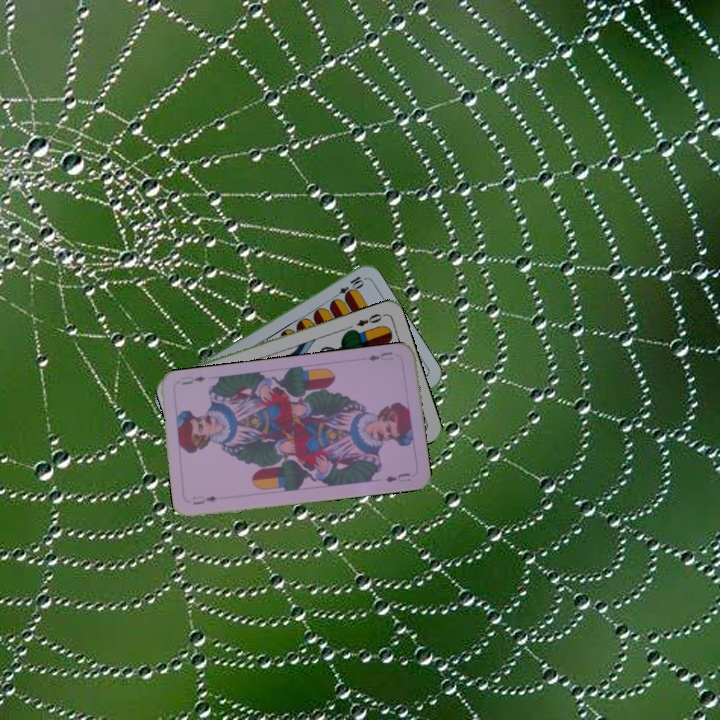E10: (329, 272, 366, 302)
EO: (352, 309, 387, 329)
EU: (364, 348, 396, 364), (189, 492, 220, 507)
